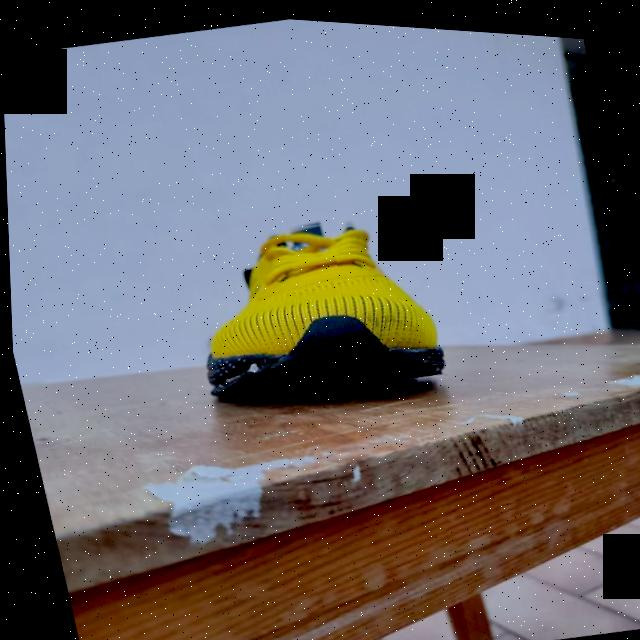shoe: (170, 191, 447, 414)
